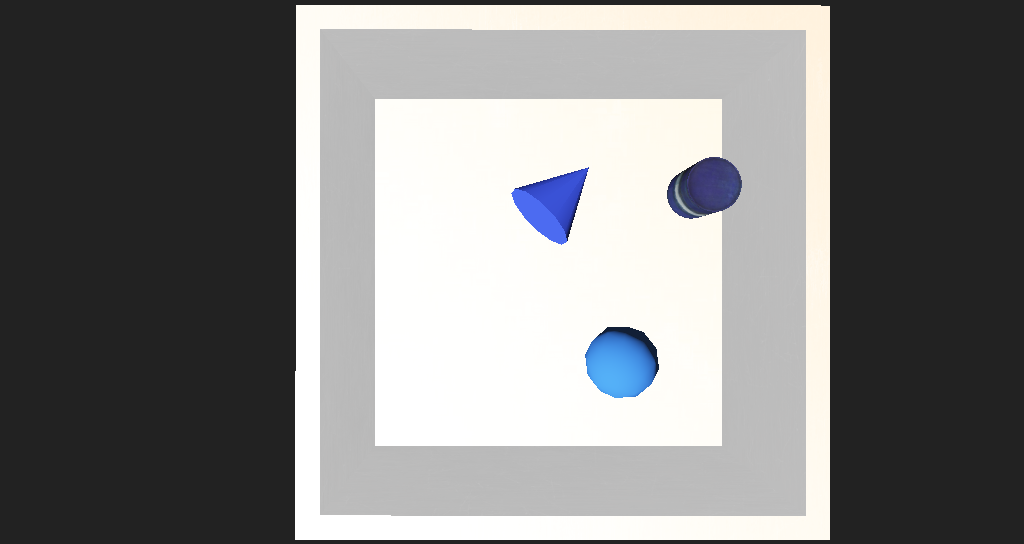cone: (610, 196, 670, 234)
cylinder: (472, 177, 566, 253)
sphere: (532, 303, 600, 346)
